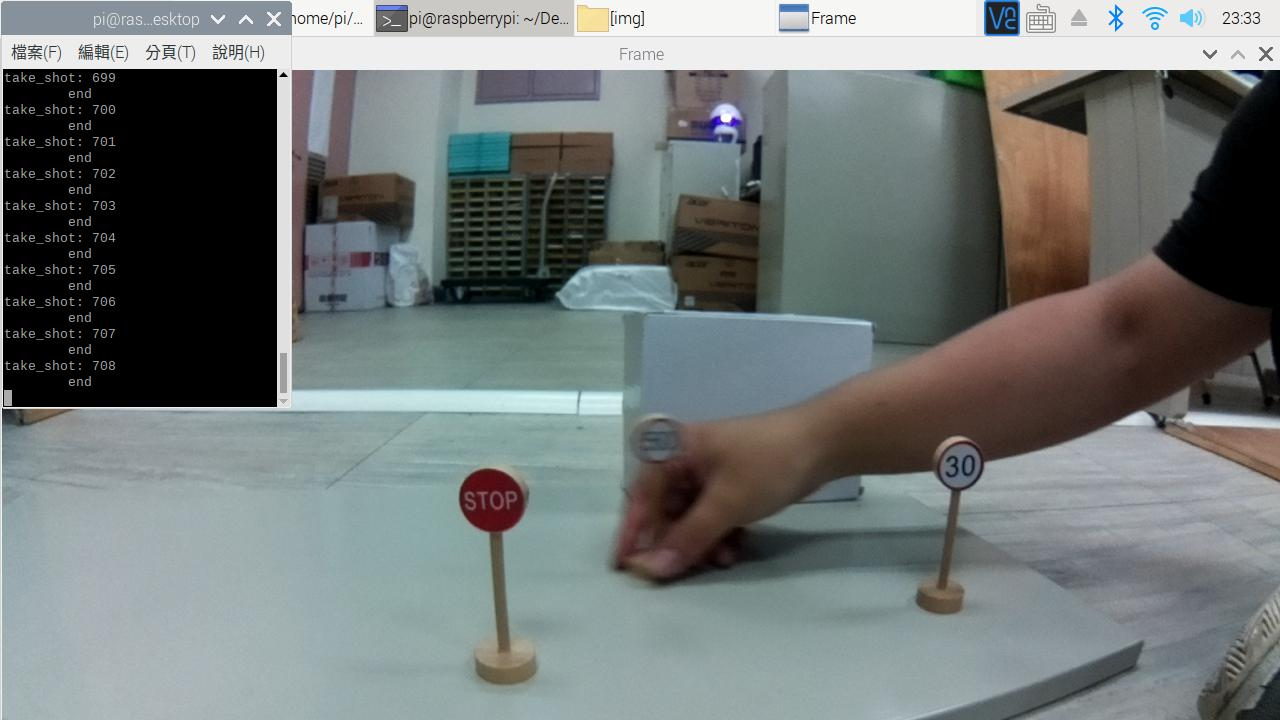Speed30: (925, 426, 995, 498)
Stop: (437, 448, 538, 542)
